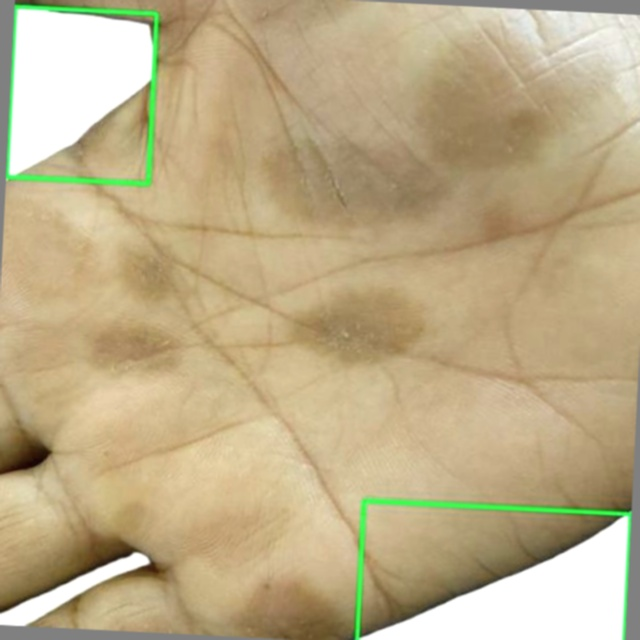Contact Dermatitis: (357, 500, 630, 639), (6, 6, 156, 183)
